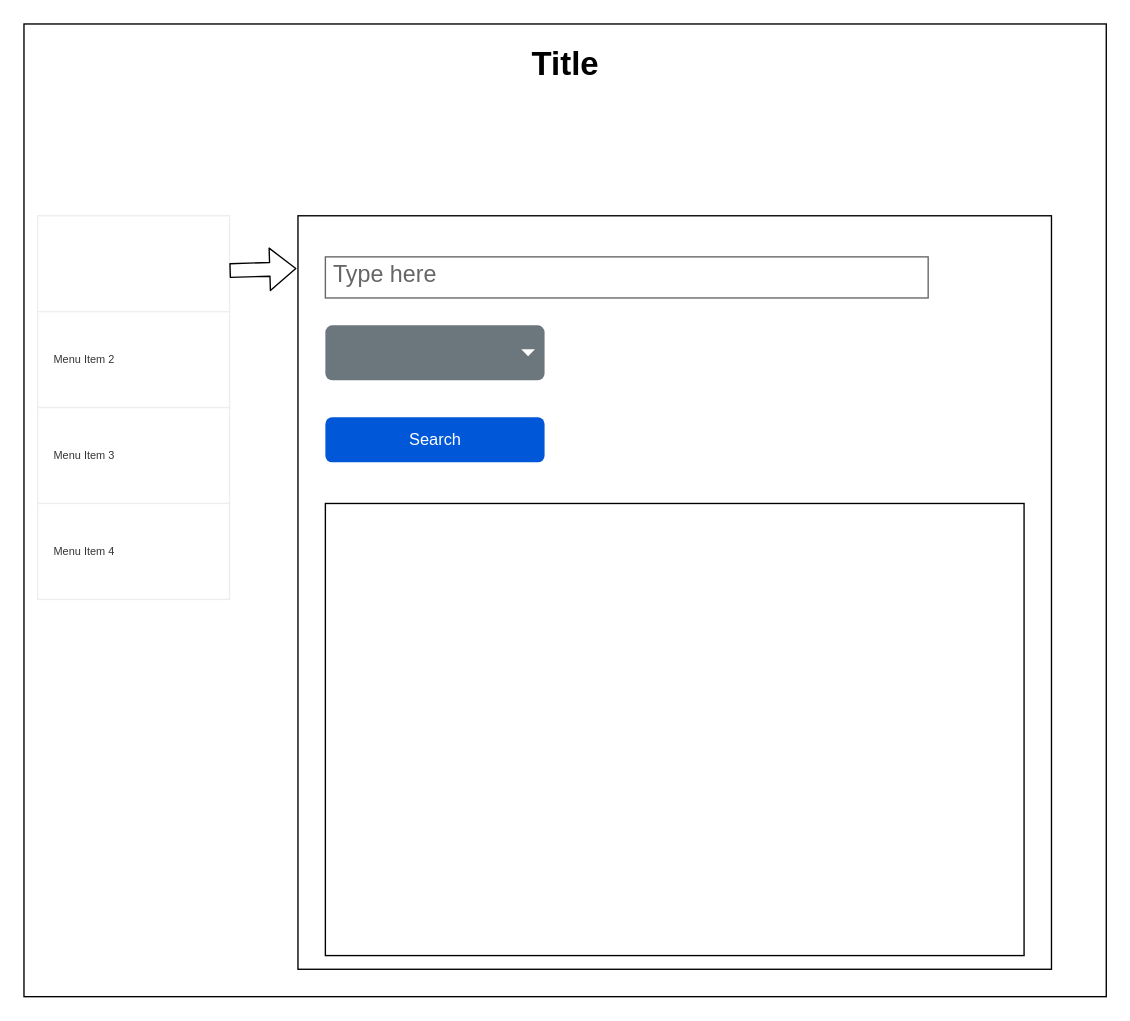
This 1130x1021 diagram has some shape labels left out. Here are the shapes that lost their labels. From the top down, the centre of each, then its label:
At (132,263): "Search VM".
At (434,352): "Filter by:".
